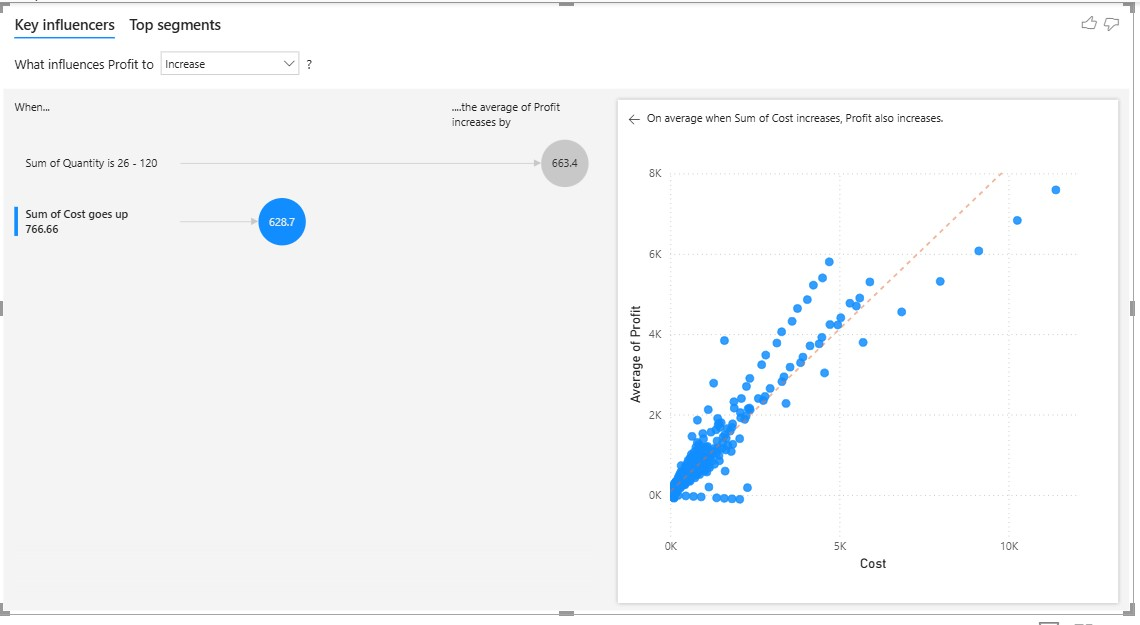

What the dashboard file says about the page in this screenshot:
{"tool":"powerbi","page":{"name":"Key Influencers","canvas":[1280,720],"ordinal":0},"visuals":[{"type":"keyDriversVisual","fields":{"Target":["FactSale.Profit"],"ExplainBy":["Sum(FactSale.Quantity)","Sum(FactSale.Cost)"]},"box":[0,0,1245.7,672.9],"z":0}]}

Visuals, with their boxes on the page's 1280x720 design canvas (x1, y1, x2, y2). These are canvas units, not pixel positions in the 1140x625 screenshot, which may show the page scaled, cropped or inside an application window:
keyDriversVisual - FactSale.Profit x Sum(FactSale.Quantity): BBox(0, 0, 1246, 673)
